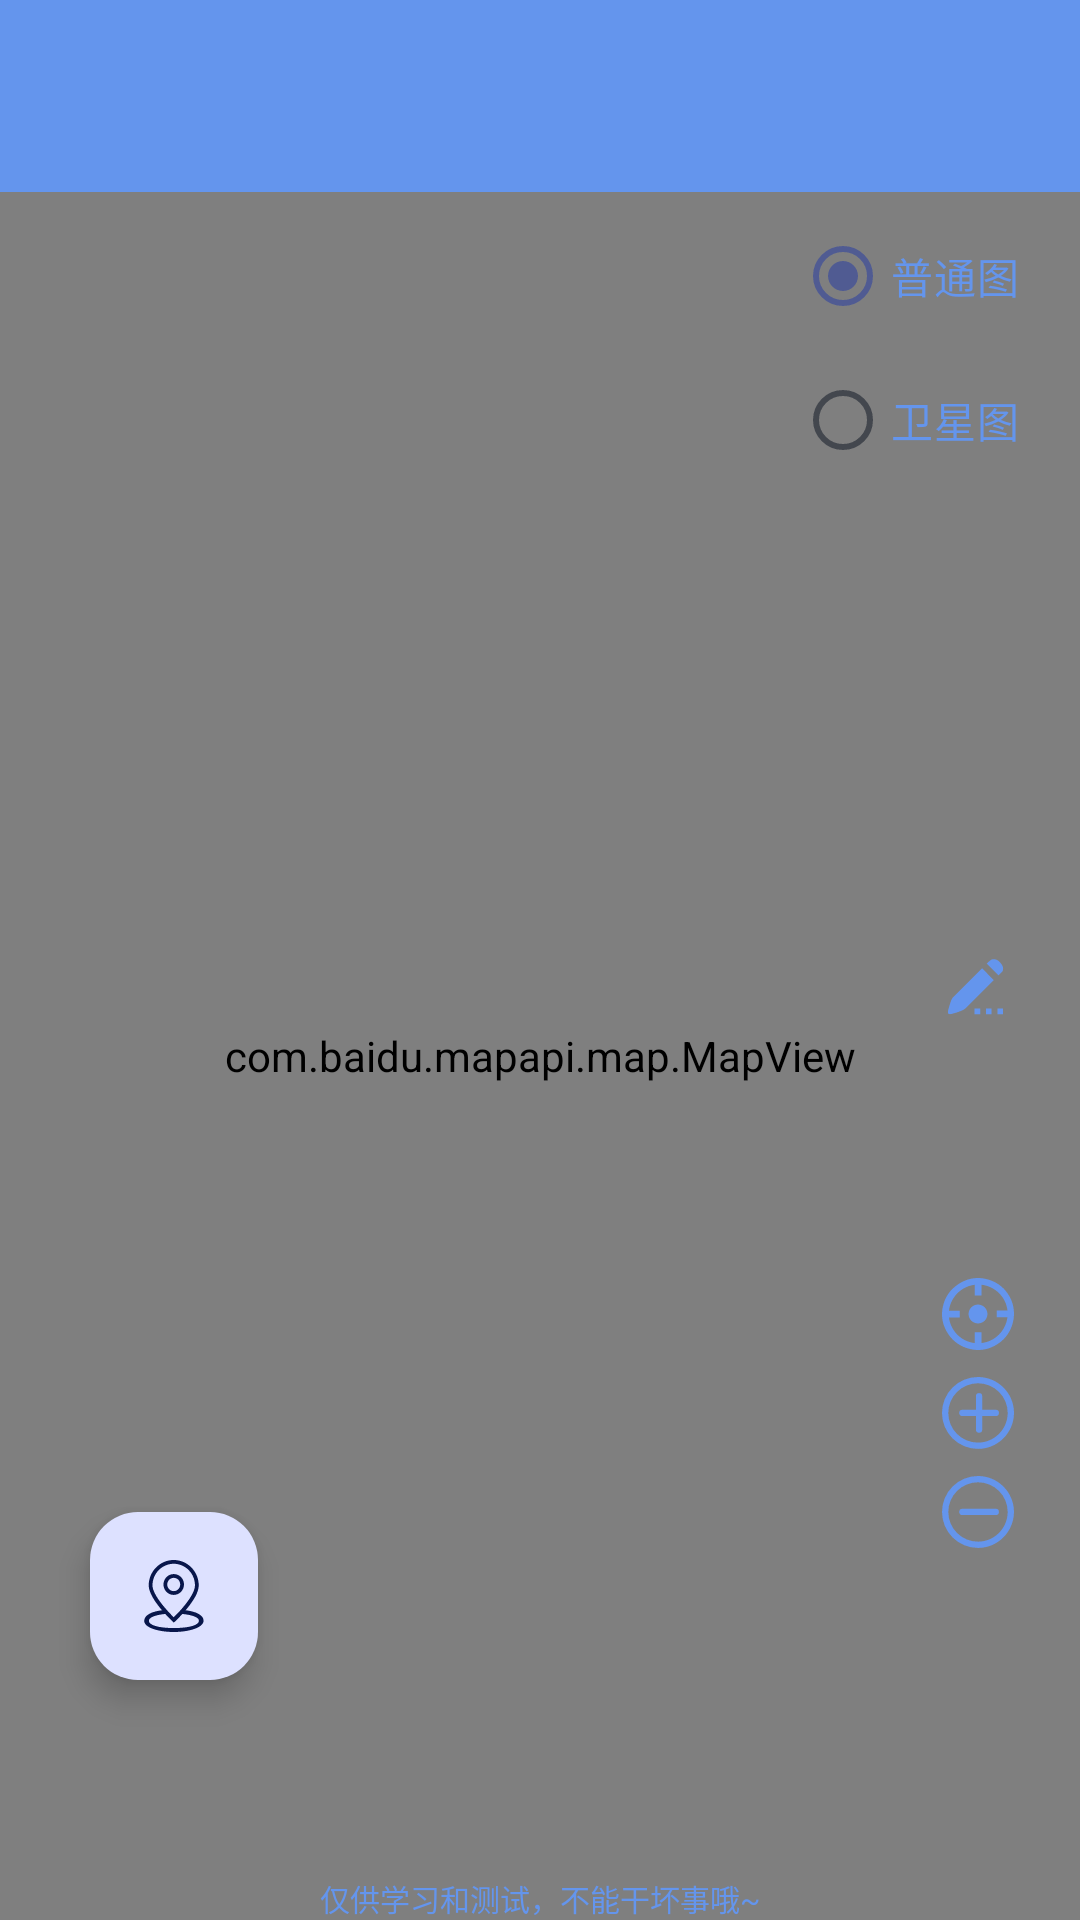

Icon click points for this 1080*1920 phone screenshot, format [x,y]:
position: [174,1596]
放大: [978,1413]
缩小: [978,1512]
输入位置: [975,987]
返回当前位置: [978,1314]
